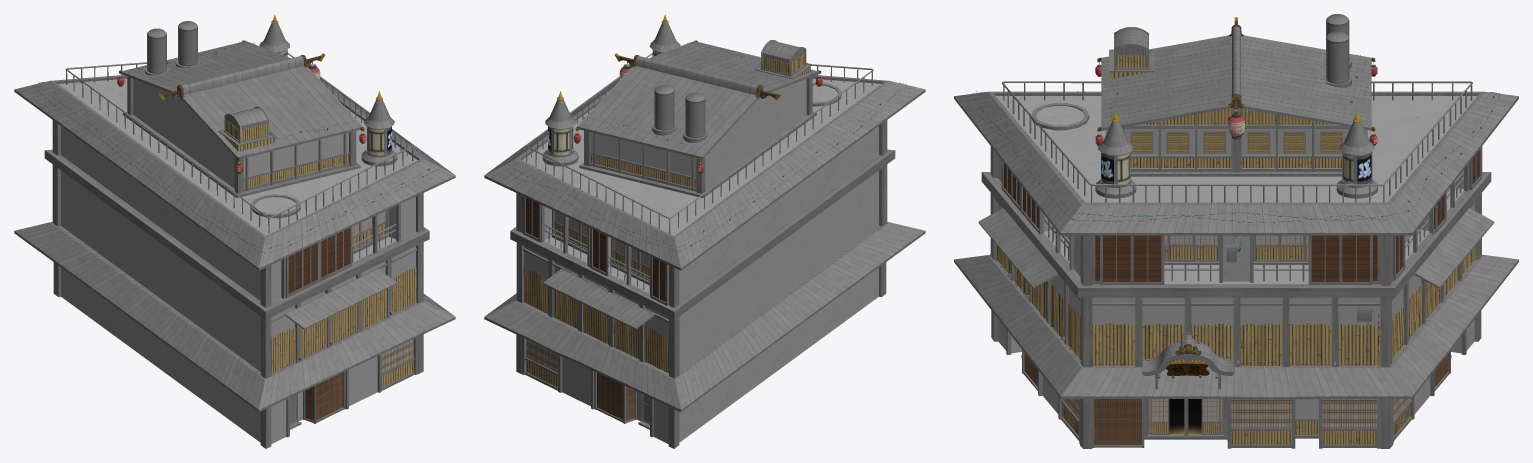
Rendered from SM_ENV_LKNVLD_Hatago_Structure.FBX.
The picture shows the model from 3 angles, left to right: view 1: azimuth 30°, elevation 25°; view 2: azimuth 150°, elevation 25°; view 3: azimuth 270°, elevation 25°; orthographic projection. The views are drawn at different scales.
Visible parts, largest first — view 1: SM_ENV_LKNVLD_Hatago_Structure; view 2: SM_ENV_LKNVLD_Hatago_Structure; view 3: SM_ENV_LKNVLD_Hatago_Structure.
Boxes of the visible parts, <box> form: SM_ENV_LKNVLD_Hatago_Structure: <box>14,14,455,448</box>; SM_ENV_LKNVLD_Hatago_Structure: <box>484,14,925,448</box>; SM_ENV_LKNVLD_Hatago_Structure: <box>954,14,1518,448</box>.
Bounding box in the file's own units: 2163 × 2522 × 3764.
